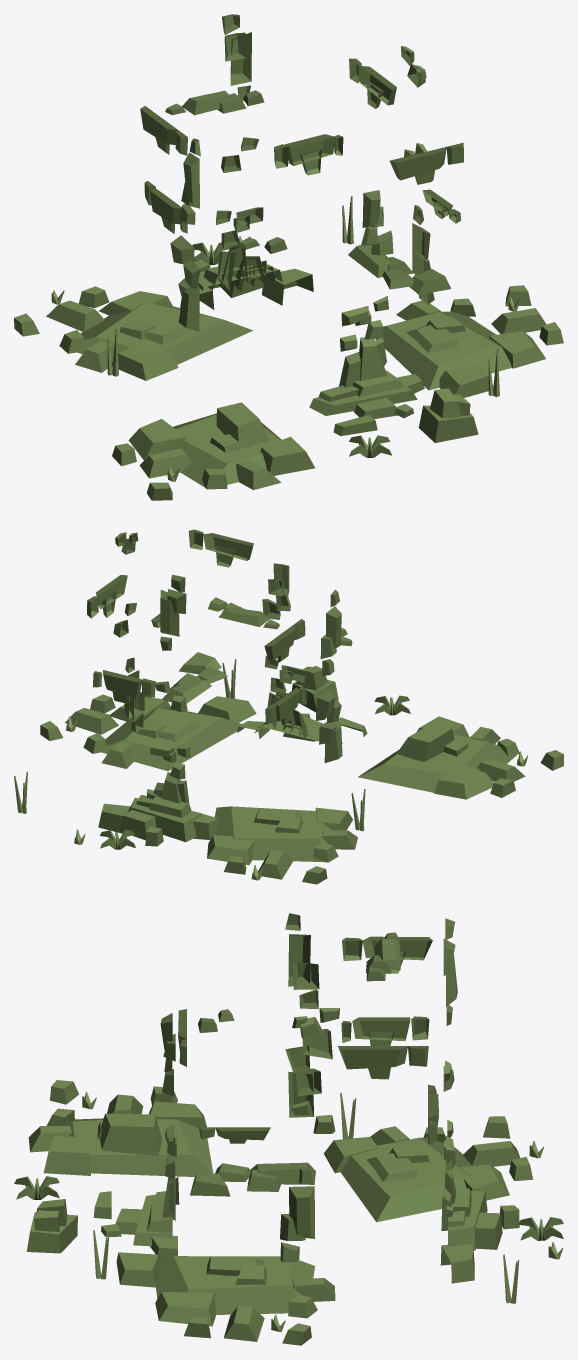
Rendered from SA_Bld_Building_Plants_01.gltf.
3 views of the same model, one above another, from view 1: azimuth 30°, elevation 25°; view 2: azimuth 150°, elevation 25°; view 3: azimuth 270°, elevation 25° (orthographic). The views are drawn at different scales.
Parts seen in each view (by area): view 1: SA_Bld_Building_Plants_01; view 2: SA_Bld_Building_Plants_01; view 3: SA_Bld_Building_Plants_01.
Part boxes in pixels (x1,y1,x2,y2): SA_Bld_Building_Plants_01: (14,14,563,500); SA_Bld_Building_Plants_01: (14,529,563,884); SA_Bld_Building_Plants_01: (14,913,563,1345).
Size of the model in its own units: 28.09 by 16.45 by 25.76.
Materials: 1 (1 with a texture image).
